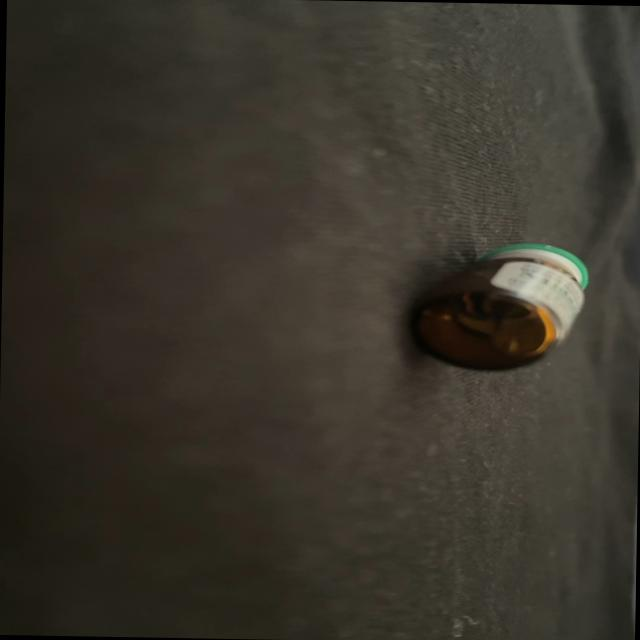midazolm: (411, 243, 585, 370)
